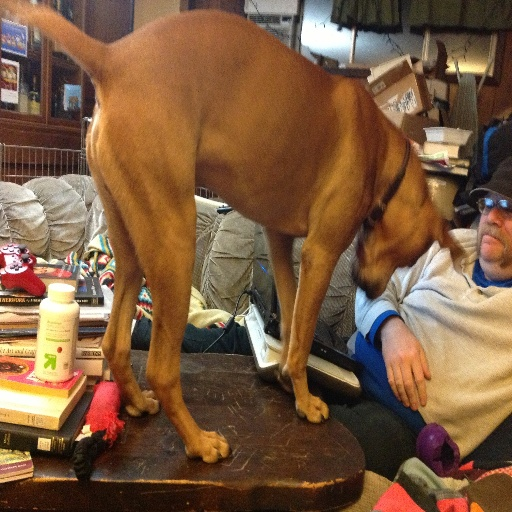hand: (388, 317, 434, 412)
